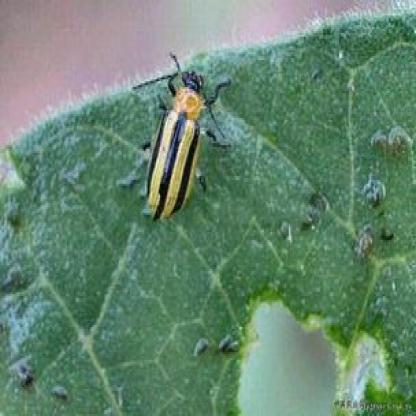beetle: (130, 51, 223, 220)
